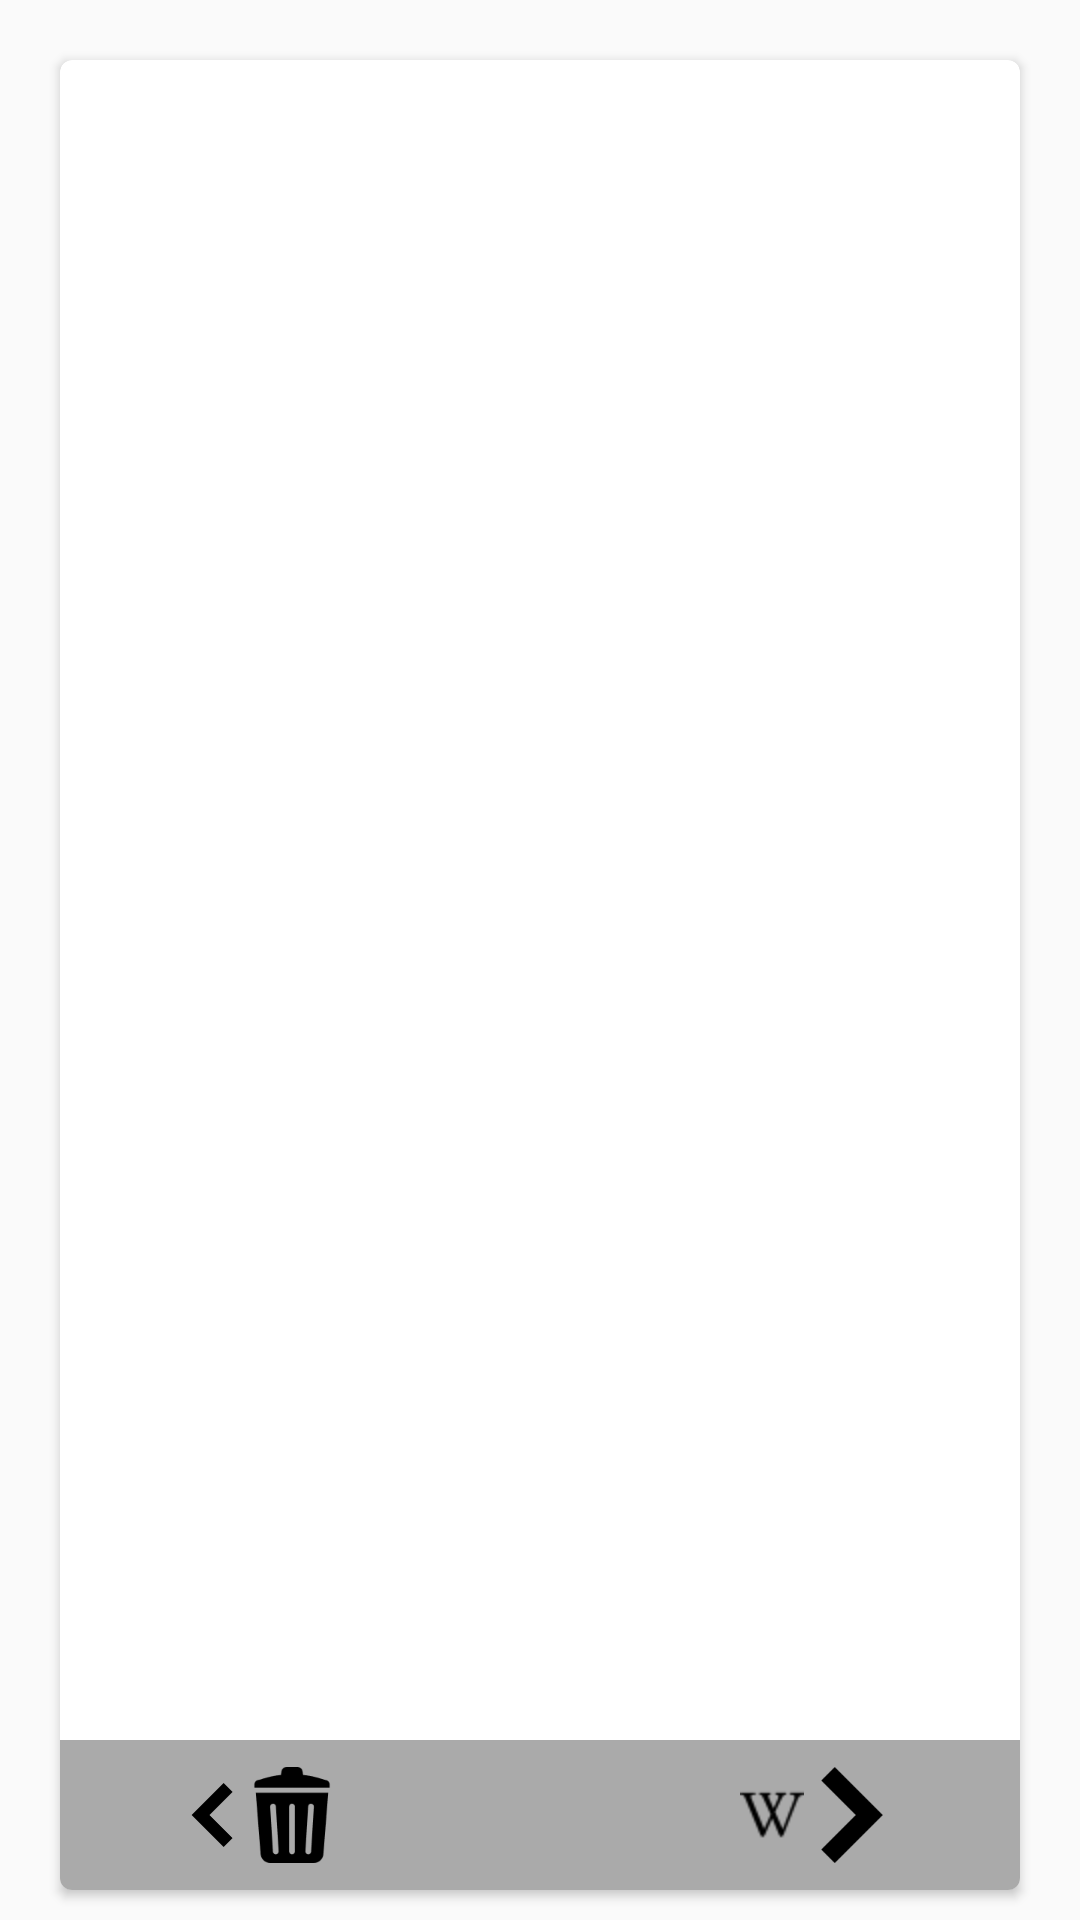

Locate icon controls on the screen. Image size 1080 x 1920, boxes as (left=x1, top=y1, right=x2, bottom=y2).
arrow left: (left=192, top=1783, right=233, bottom=1847)
arrow right: (left=821, top=1767, right=883, bottom=1863)
garbage: (left=254, top=1767, right=330, bottom=1863)
